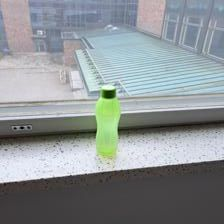bottle: (91, 82, 123, 158)
